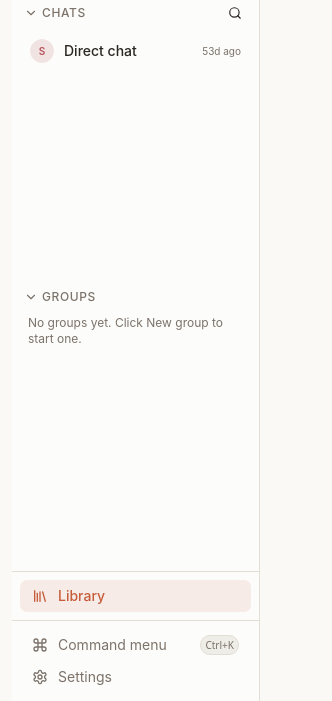
it: AppSidebar terminal cleanup › marks the library entry active only inside a library area, and re-enters to its first area
The image size is (332, 701).
Click the button "Library".
click(136, 596)  # box [20,580,251,612]
(page scrolled)
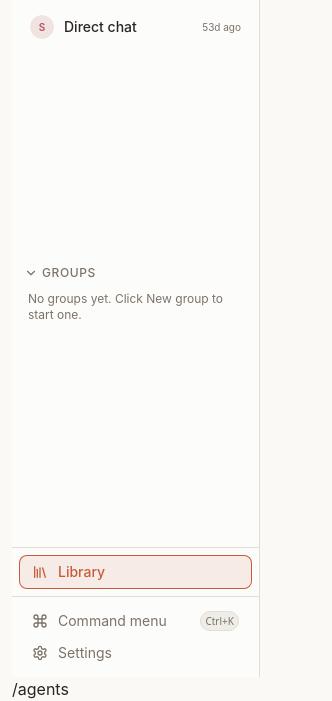
Result: the text with test id "location" reads "/agents" at [12,679,69,699]
